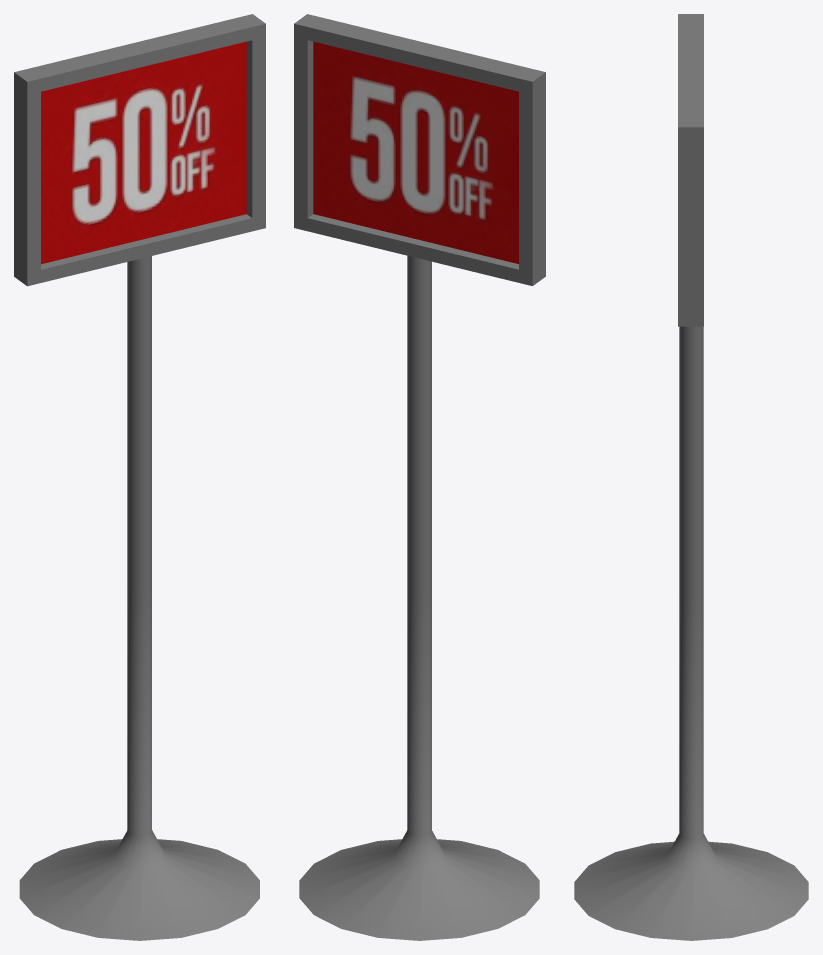
Rendered from Sign.fbx.
3 views of the same model, side by side, from view 1: azimuth 30°, elevation 25°; view 2: azimuth 150°, elevation 25°; view 3: azimuth 270°, elevation 25° (orthographic). The views are drawn at different scales.
Parts seen in each view (by area): view 1: sign; view 2: sign; view 3: sign.
Boxes of the visible parts, bbox=[...] form: sign: bbox=[14, 14, 265, 940]; sign: bbox=[294, 14, 545, 940]; sign: bbox=[574, 14, 808, 940].
Bounding box in the file's own units: 25.82 × 87.03 × 22.53.
Materials: 2 (1 with a texture image).
